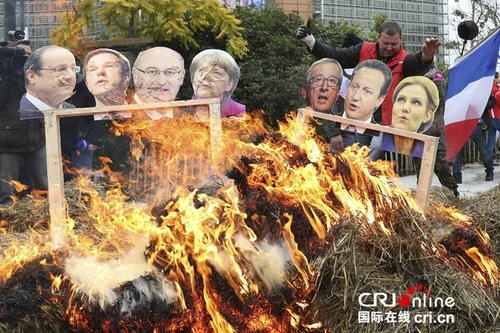fire: (433, 200, 499, 285)
